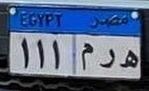1: (49, 38, 64, 71), (20, 36, 32, 70), (34, 39, 47, 70)
haa: (119, 47, 139, 74)
meem: (79, 41, 94, 72)
raa: (98, 47, 116, 73)
